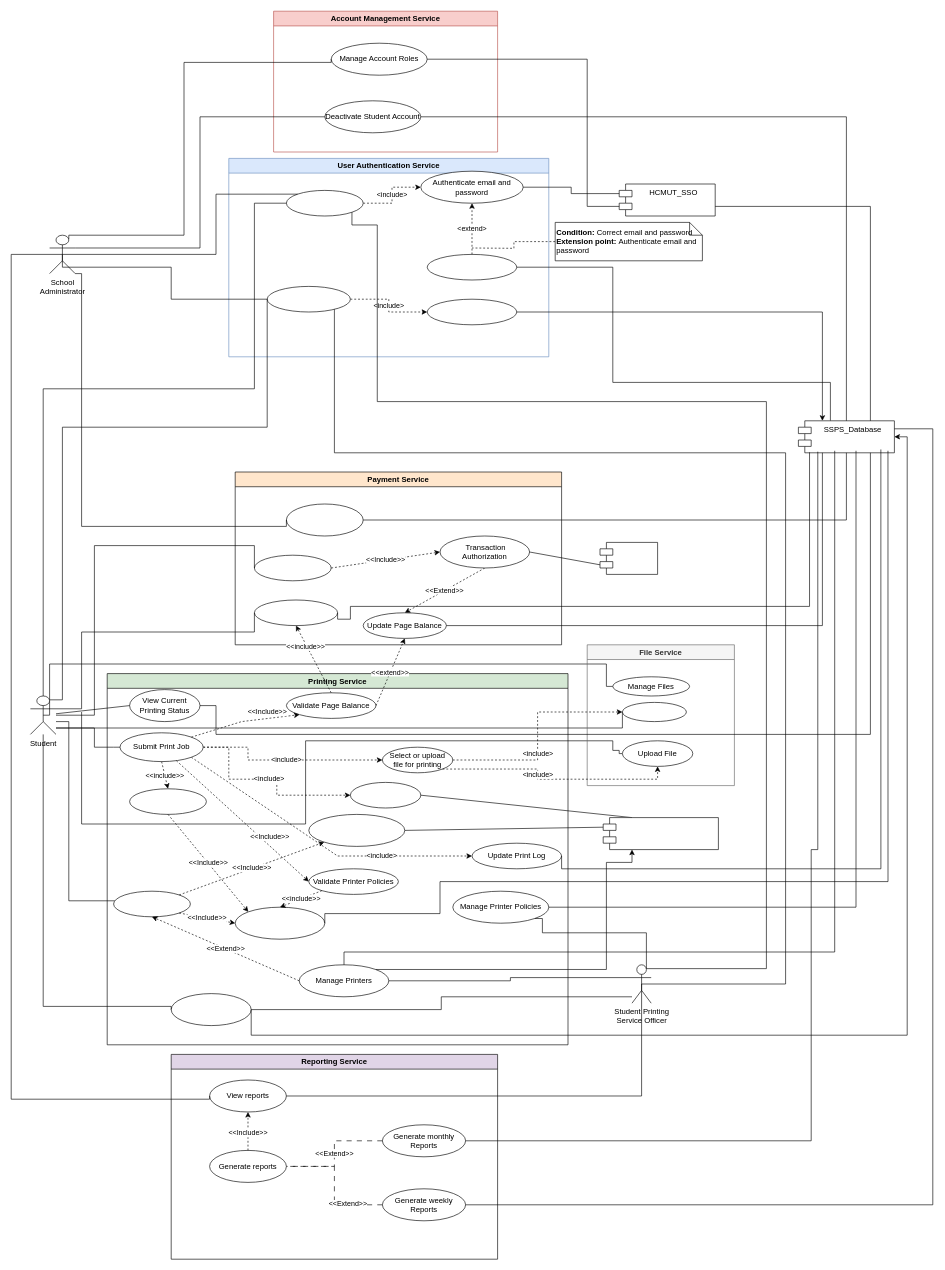
Some shapes in this 945 by 1270 pixel diagram are drawn without their labels. Here are the shapes that lost their labels. From the top down, the centre of each, then its label:
At point (324, 203): "Login".
At point (472, 267): "Create Session".
At point (308, 299): "Logout".
At point (472, 312): "Delete Session".
At point (324, 519): "View Payment Logs".
At point (292, 568): "Purchase Page Balance".
At point (628, 558): "BKPAY".
At point (296, 612): "Get Current Page Balance".
At point (654, 712): "Get Files".
At point (167, 801): "Select Printing Properties".
At point (385, 795): "Send Print Job".
At point (356, 830): "List Printers in Network".
At point (660, 833): "Print Server (Manage network connections to printers)".
At point (151, 904): "View Printers".
At point (280, 923): "Get Printers Policies".
At point (211, 1009): "View Printing Logs".
